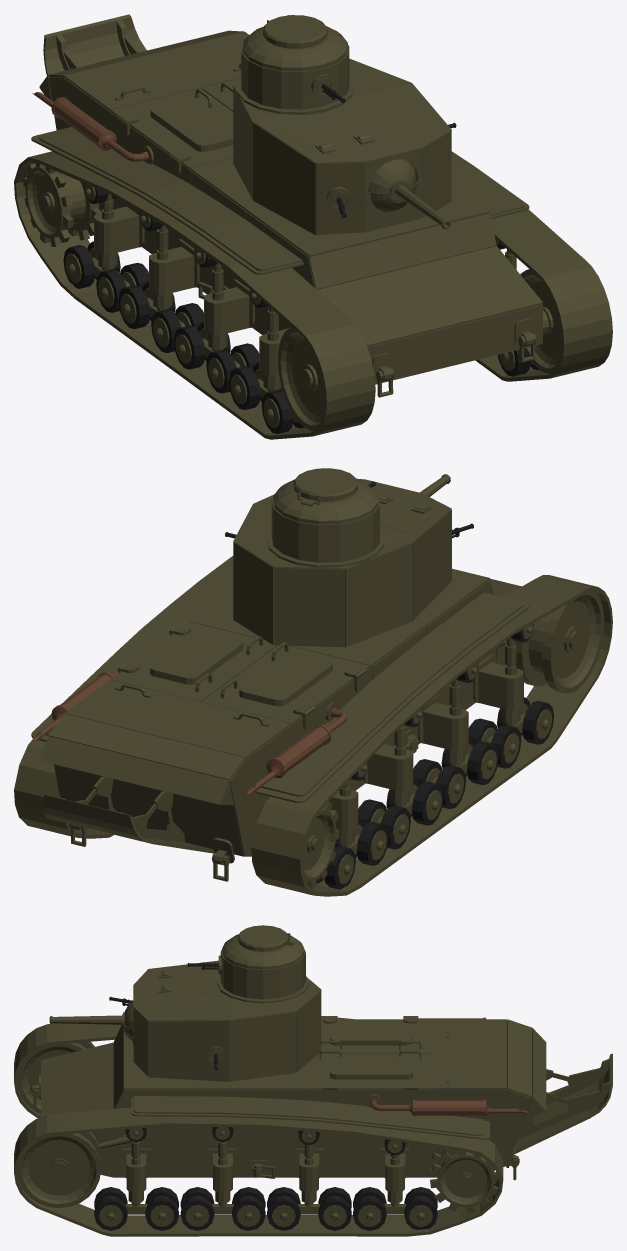
File: T-12_soviet_tank_.glb
3 renders of one model, top to bottom at view 1: azimuth 30°, elevation 25°; view 2: azimuth 150°, elevation 25°; view 3: azimuth 270°, elevation 25°, orthographic. The views are drawn at different scales.
Parts seen in each view (by area): view 1: T-26 BODY, T-26 TOWER; view 2: T-26 BODY, T-26 TOWER; view 3: T-26 BODY, T-26 TOWER.
Part boxes in pixels (<box>): T-26 BODY: <box>14,14,612,439</box>; T-26 TOWER: <box>233,15,456,234</box>; T-26 BODY: <box>14,556,612,896</box>; T-26 TOWER: <box>225,468,473,647</box>; T-26 BODY: <box>14,1016,612,1236</box>; T-26 TOWER: <box>49,925,321,1081</box>.
Size of the model in its own units: 2.7 by 2.78 by 6.27.
